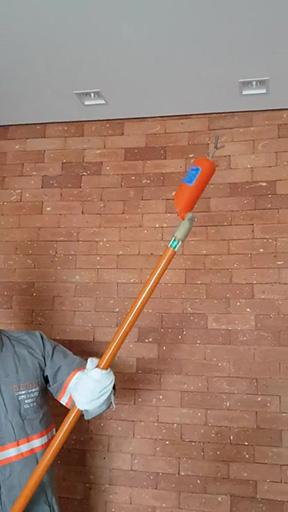Detector_Tensao_Contato: (172, 135, 226, 222)
Vara_Manobra: (12, 218, 197, 512)
